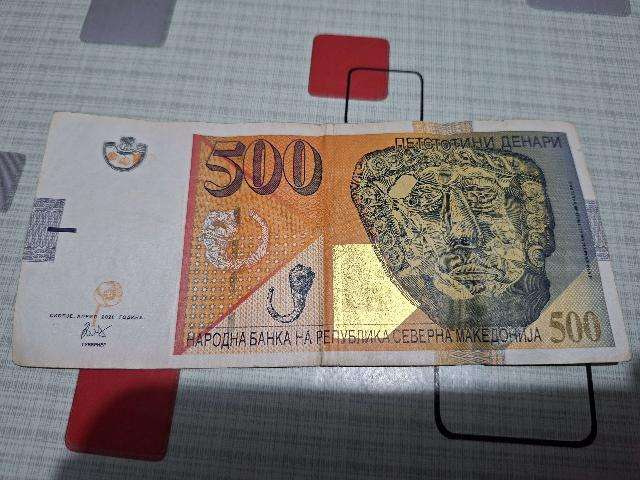note: (14, 114, 630, 367)
